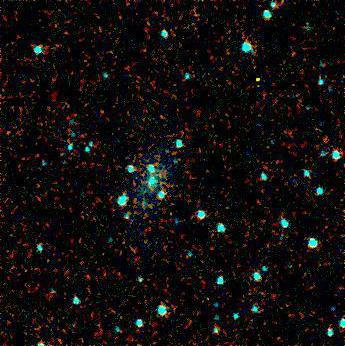star: (243, 68, 273, 98)
